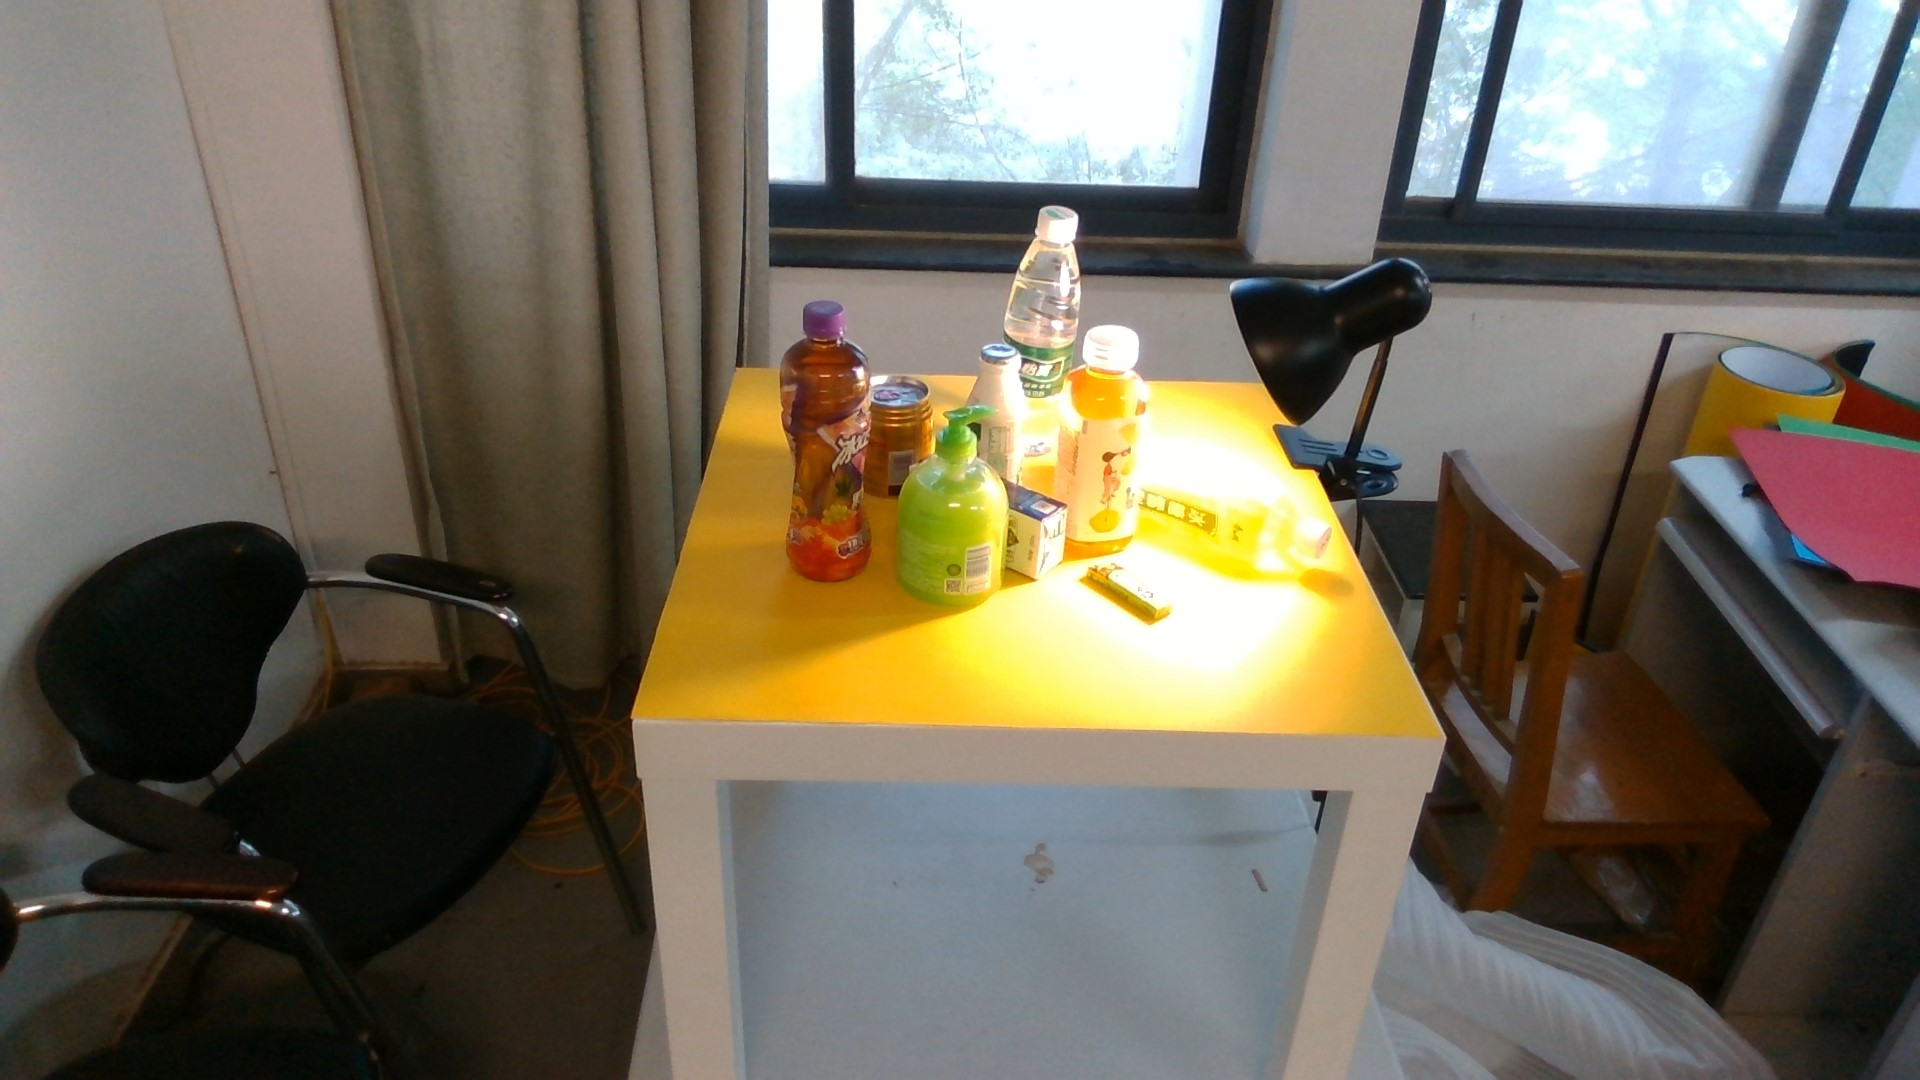BB002: (1091, 555, 1174, 625)
BB010: (1007, 485, 1065, 578)
ZA002: (894, 459, 1007, 605)
ZC004: (868, 373, 938, 462)
ZC005: (986, 339, 1022, 463)
ZC009: (782, 301, 870, 584)
ZC011: (1147, 448, 1332, 567)
ZC012: (1069, 320, 1149, 559)
ZC017: (1023, 206, 1065, 460)
